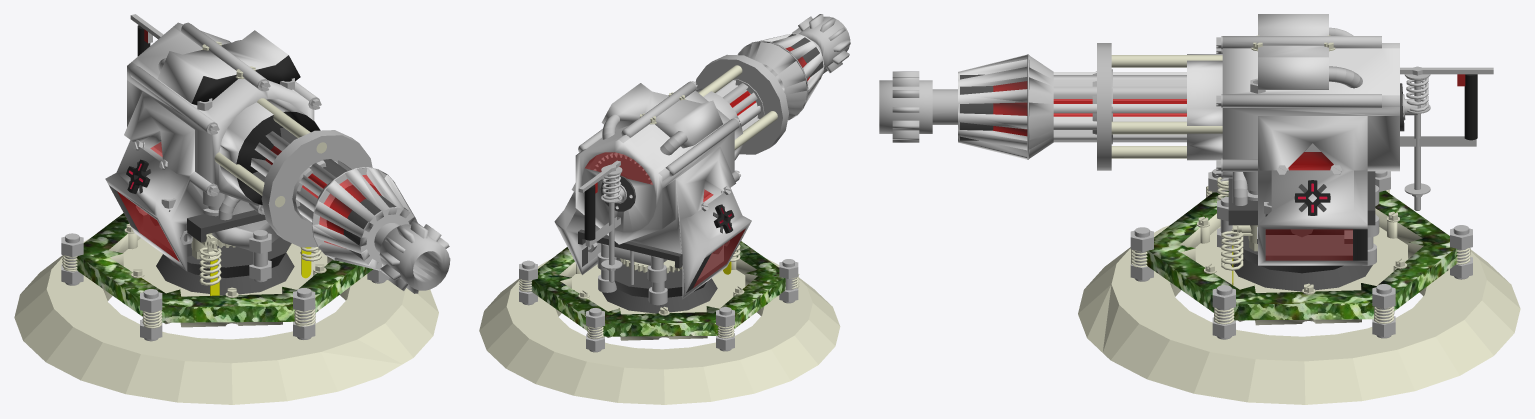
File: robotGun.obj
The picture shows the model from 3 angles, left to right: view 1: azimuth 30°, elevation 25°; view 2: azimuth 150°, elevation 25°; view 3: azimuth 270°, elevation 25°; orthographic projection. The views are drawn at different scales.
Visible parts, largest first — view 1: Mesh148 Model, Mesh121 Component_13_1 Component_19_1 Model, Mesh122 Component_13_1 Component_19_1 Model, Mesh147 Component_19_1 Model, Mesh142 Piping_3in_Flange_RFSO1 Component_19_1 Model, Mesh27 Mount_Vehicle_Limpet1 Component_19_1 Model, Mesh22 Group7 Mount_Vehicle_Limpet1 Component_19_1 Model, Mesh2 Spring2 Component_19_1 Model, Mesh117 _375_1 Spring_and_Bolt_Assy1 Component_13_1 Component_19, Mesh143 Group55 Piping_Camlock_1_in_Female1 Component_19_1 Model; view 2: Mesh121 Component_13_1 Component_19_1 Model, Mesh148 Model, Mesh147 Component_19_1 Model, Mesh122 Component_13_1 Component_19_1 Model, Mesh142 Piping_3in_Flange_RFSO1 Component_19_1 Model, Mesh27 Mount_Vehicle_Limpet1 Component_19_1 Model, Mesh117 _375_1 Spring_and_Bolt_Assy1 Component_13_1 Component_19, Mesh22 Group7 Mount_Vehicle_Limpet1 Component_19_1 Model, Mesh77 Group32 Sun_Gear1 Component_13_1 Component_19_1 Model, Mesh113 Piping_3in_Flange_RFSO_1_1 Component_13_1 Component_19_1, Mesh116 Group43 _375_1 Spring_and_Bolt_Assy1 Component_13_1 Comp, Mesh76 G_90_Elbow_1_1 Component_13_1 Component_19_1 Model (+1 smaller); view 3: Mesh121 Component_13_1 Component_19_1 Model, Mesh148 Model, Mesh122 Component_13_1 Component_19_1 Model, Mesh147 Component_19_1 Model, Mesh142 Piping_3in_Flange_RFSO1 Component_19_1 Model, Mesh27 Mount_Vehicle_Limpet1 Component_19_1 Model, Mesh117 _375_1 Spring_and_Bolt_Assy1 Component_13_1 Component_19, Mesh22 Group7 Mount_Vehicle_Limpet1 Component_19_1 Model, Mesh1 Spring1 Component_19_1 Model, Mesh116 Group43 _375_1 Spring_and_Bolt_Assy1 Component_13_1 Comp, Mesh120 Spring_and_Bolt_Assy1 Component_13_1 Component_19_1 Mode.
Part boxes in pixels (<box>): Mesh148 Model: <box>14,238,438,404</box>; Mesh121 Component_13_1 Component_19_1 Model: <box>105,22,320,271</box>; Mesh122 Component_13_1 Component_19_1 Model: <box>250,127,450,293</box>; Mesh147 Component_19_1 Model: <box>76,213,372,327</box>; Mesh142 Piping_3in_Flange_RFSO1 Component_19_1 Model: <box>214,98,372,247</box>; Mesh27 Mount_Vehicle_Limpet1 Component_19_1 Model: <box>156,237,294,295</box>; Mesh22 Group7 Mount_Vehicle_Limpet1 Component_19_1 Model: <box>187,210,265,242</box>; Mesh2 Spring2 Component_19_1 Model: <box>199,247,221,285</box>; Mesh117 _375_1 Spring_and_Bolt_Assy1 Component_13_1 Component_19: <box>130,14,163,56</box>; Mesh143 Group55 Piping_Camlock_1_in_Female1 Component_19_1 Model: <box>203,191,224,216</box>; Mesh121 Component_13_1 Component_19_1 Model: <box>554,81,751,299</box>; Mesh148 Model: <box>479,258,840,404</box>; Mesh147 Component_19_1 Model: <box>531,241,785,340</box>; Mesh122 Component_13_1 Component_19_1 Model: <box>715,14,850,131</box>; Mesh142 Piping_3in_Flange_RFSO1 Component_19_1 Model: <box>695,54,788,154</box>; Mesh27 Mount_Vehicle_Limpet1 Component_19_1 Model: <box>602,258,717,313</box>; Mesh117 _375_1 Spring_and_Bolt_Assy1 Component_13_1 Component_19: <box>578,160,620,246</box>; Mesh22 Group7 Mount_Vehicle_Limpet1 Component_19_1 Model: <box>578,229,682,268</box>; Mesh77 Group32 Sun_Gear1 Component_13_1 Component_19_1 Model: <box>593,152,652,184</box>; Mesh113 Piping_3in_Flange_RFSO_1_1 Component_13_1 Component_19_1: <box>600,174,635,211</box>; Mesh116 Group43 _375_1 Spring_and_Bolt_Assy1 Component_13_1 Comp: <box>609,176,614,282</box>; Mesh76 G_90_Elbow_1_1 Component_13_1 Component_19_1 Model: <box>660,131,687,155</box>; Mesh121 Component_13_1 Component_19_1 Model: <box>1187,14,1417,265</box>; Mesh148 Model: <box>1078,225,1520,404</box>; Mesh122 Component_13_1 Component_19_1 Model: <box>879,54,1186,159</box>; Mesh147 Component_19_1 Model: <box>1146,190,1457,325</box>; Mesh142 Piping_3in_Flange_RFSO1 Component_19_1 Model: <box>1092,43,1222,170</box>; Mesh27 Mount_Vehicle_Limpet1 Component_19_1 Model: <box>1230,234,1372,291</box>; Mesh117 _375_1 Spring_and_Bolt_Assy1 Component_13_1 Component_19: <box>1400,66,1493,146</box>; Mesh22 Group7 Mount_Vehicle_Limpet1 Component_19_1 Model: <box>1228,171,1375,225</box>; Mesh1 Spring1 Component_19_1 Model: <box>1221,229,1243,270</box>; Mesh116 Group43 _375_1 Spring_and_Bolt_Assy1 Component_13_1 Comp: <box>1414,80,1420,210</box>; Mesh120 Spring_and_Bolt_Assy1 Component_13_1 Component_19_1 Mode: <box>1406,77,1428,111</box>.
Size of the model in its own units: 8.41 by 5.78 by 12.19.
Materials: 14 (1 with a texture image).
